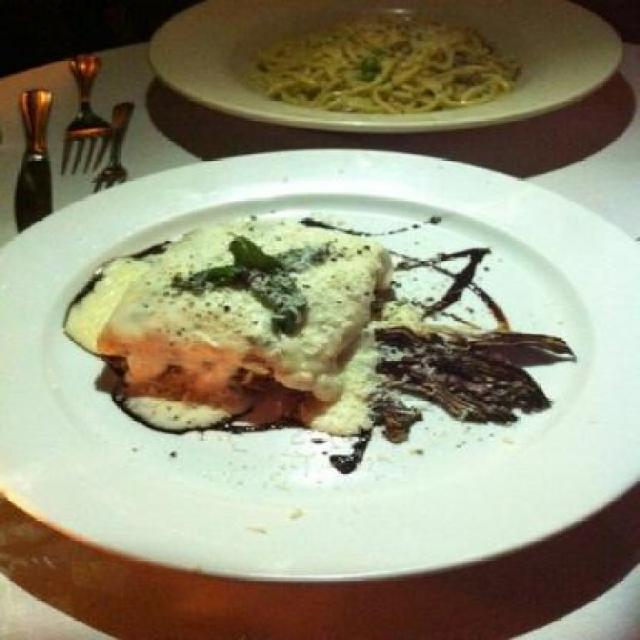Lasagna: (77, 206, 414, 425)
